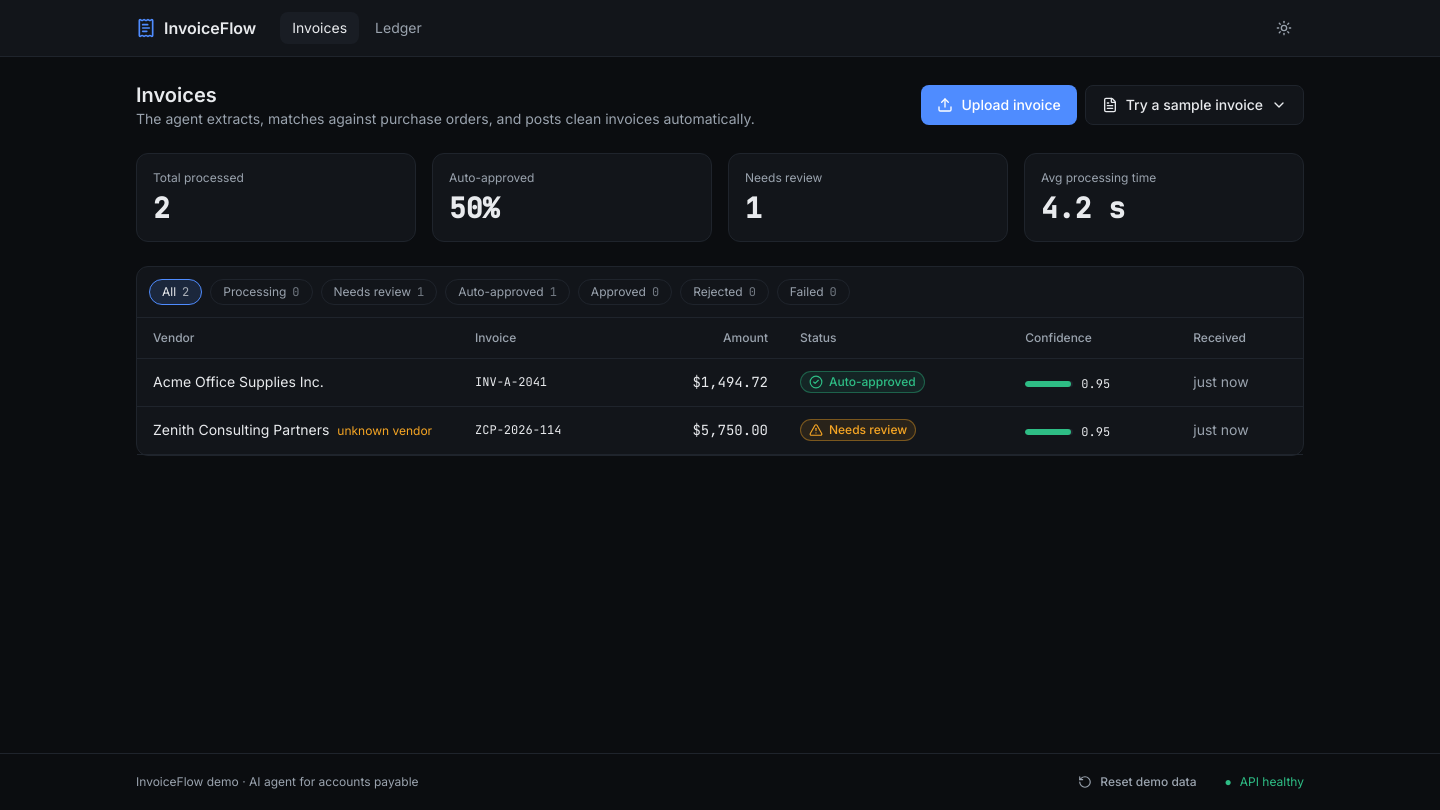
Test case: Dashboard › filters by status
Expected: the table is shown, [137,318,1303,454]
What coordinates should you click on to do the following:
click the button "Needs review1"
I would click on:
 (379, 292)
Its box is [321,279,437,305].
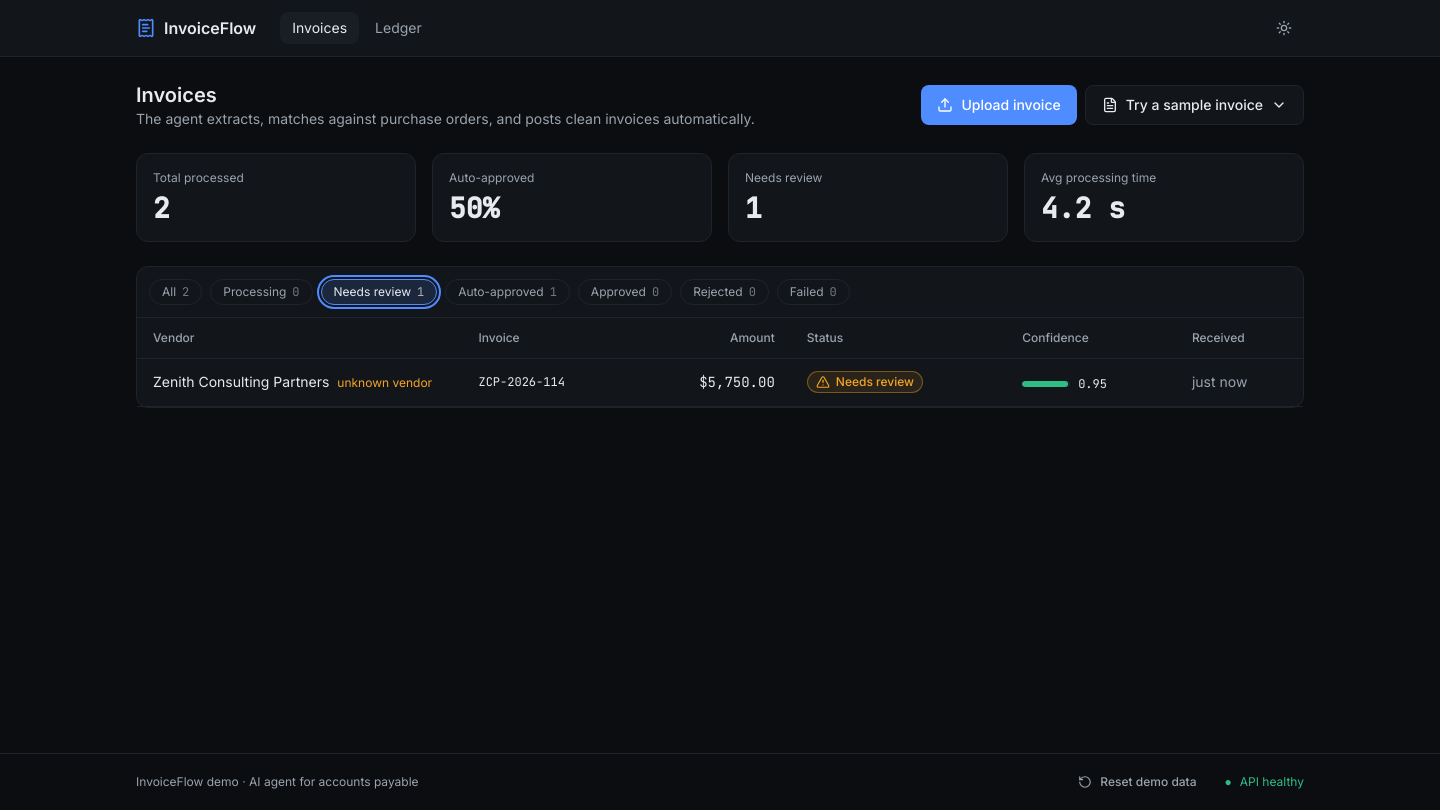
Expected: the link "Acme Office Supplies Inc." is gone
